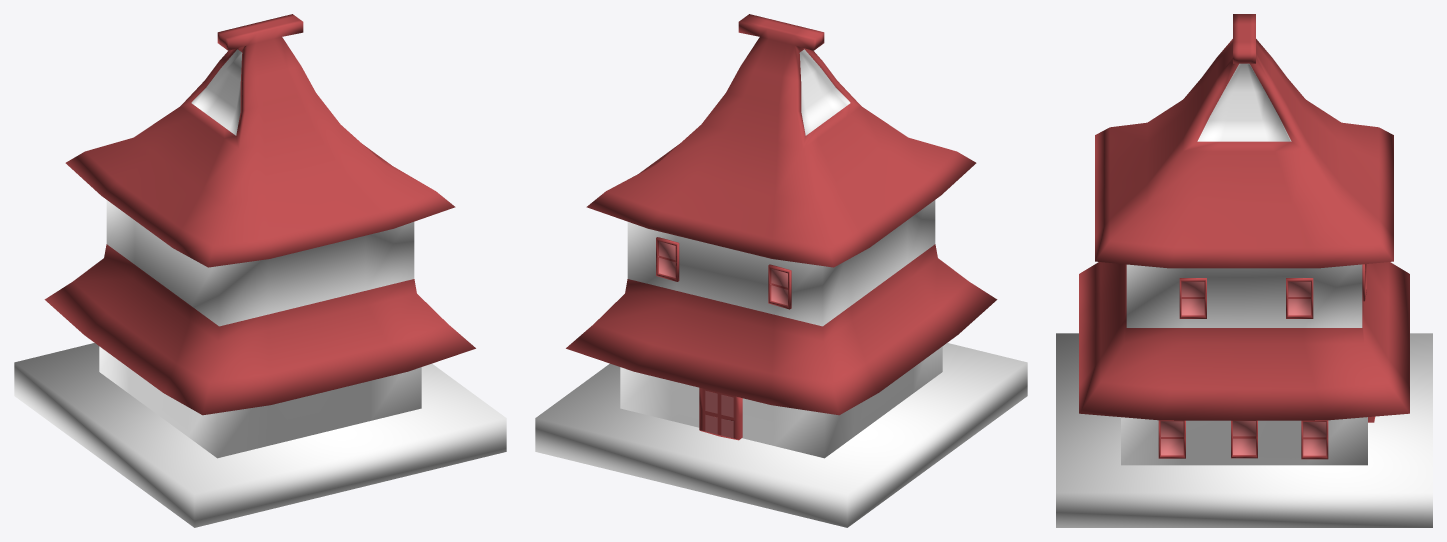
File: japanesehouse.fbx
3 views of the same model, side by side, from view 1: azimuth 30°, elevation 25°; view 2: azimuth 150°, elevation 25°; view 3: azimuth 270°, elevation 25° (orthographic). The views are drawn at different scales.
Visible parts, largest first — view 1: Cube; view 2: Cube, Cube.002, Cube.001, Cube.008, Cube.009; view 3: Cube, Cube.006, Cube.007, Cube.005, Cube.004, Cube.003.
Part boxes in pixels (x1,y1,x2,y2): Cube: (14, 14, 506, 527); Cube: (535, 14, 1027, 527); Cube.002: (699, 387, 742, 439); Cube.001: (705, 390, 733, 438); Cube.008: (768, 264, 791, 309); Cube.009: (656, 237, 679, 281); Cube: (1056, 14, 1432, 527); Cube.006: (1286, 278, 1313, 318); Cube.007: (1179, 278, 1206, 318); Cube.005: (1301, 420, 1328, 459); Cube.004: (1158, 420, 1185, 458); Cube.003: (1231, 420, 1257, 458).
Size of the model in its own units: 171 by 208 by 171.
